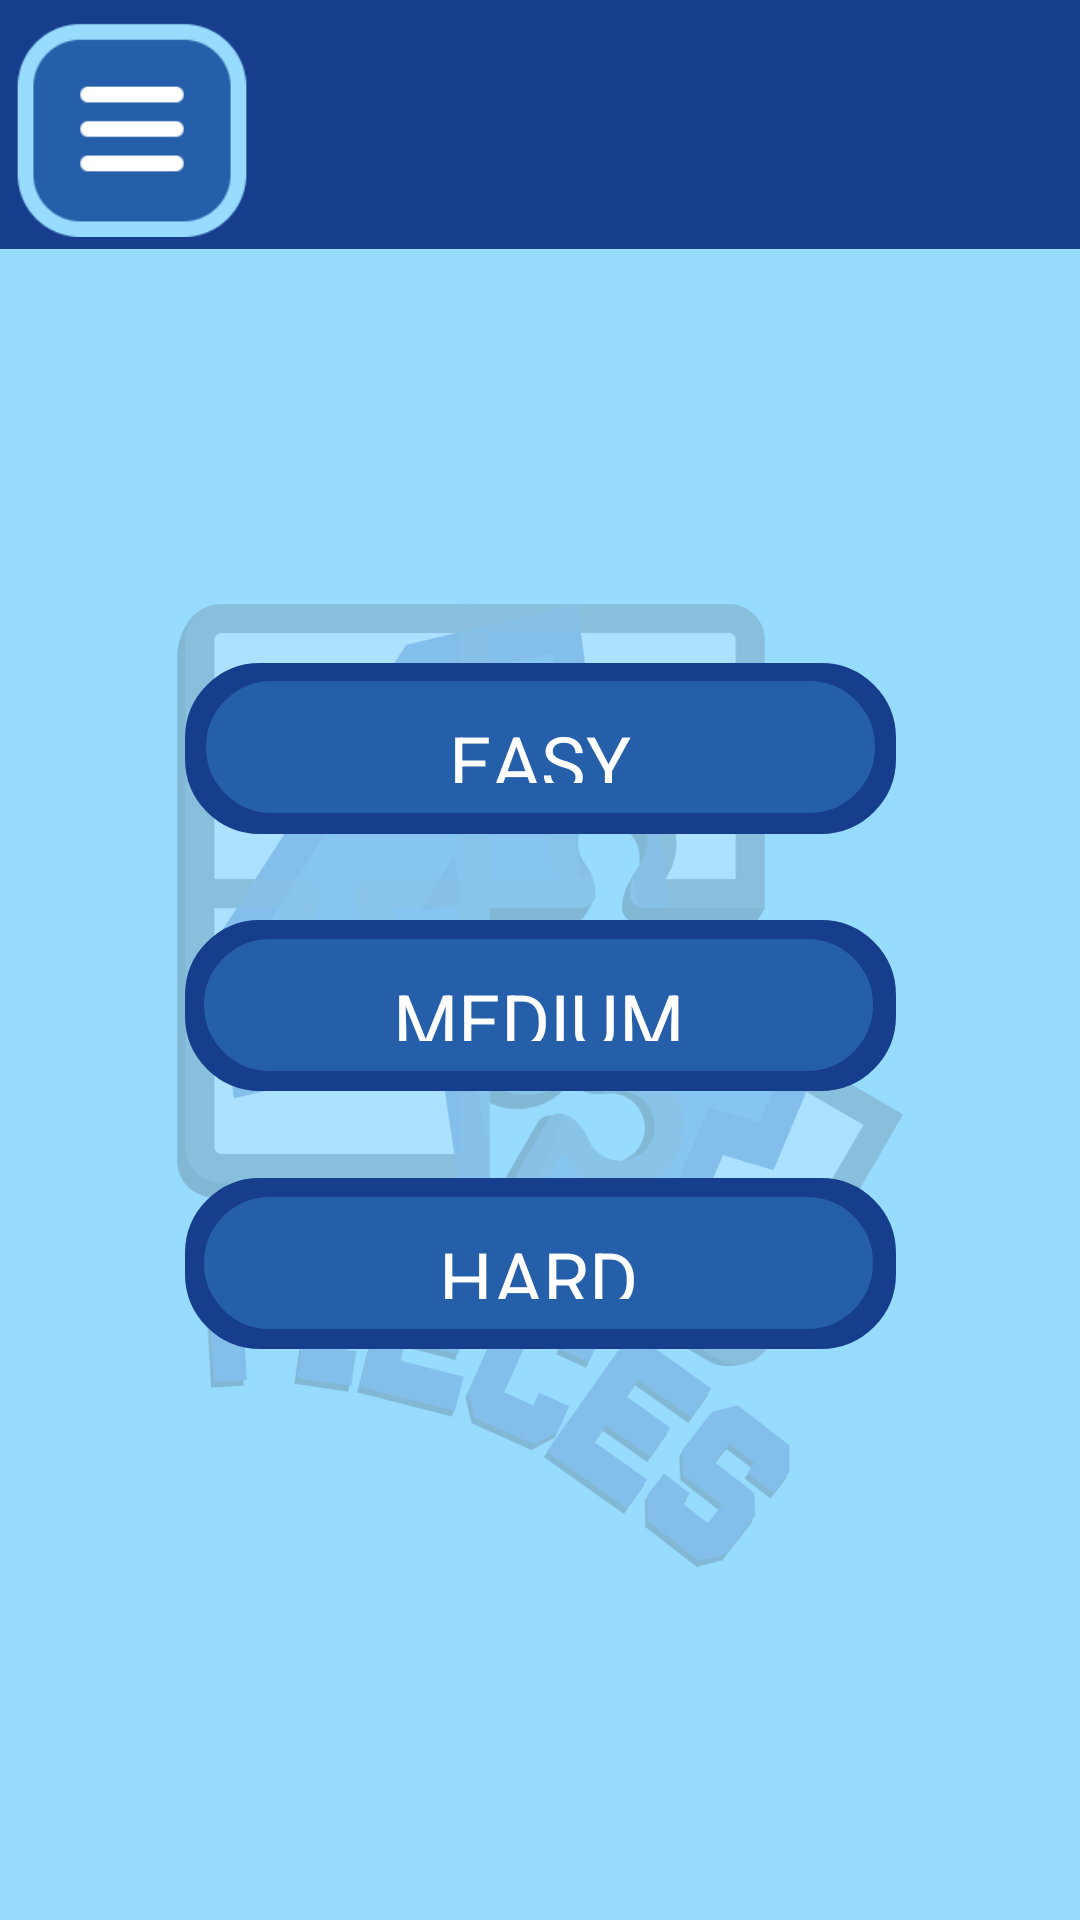

Point at icon controls on the screen. Image size 1080px×1920px, points as point (x, y).
menubtn: point (132, 130)
